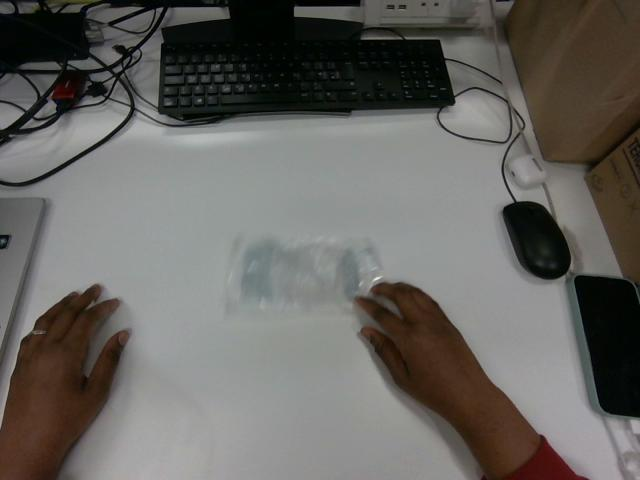gallipot: (226, 237, 381, 312)
